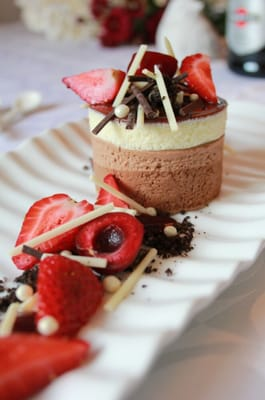burger: (224, 0, 265, 76)
curry: (0, 6, 265, 390)
pizza: (0, 333, 89, 400)
